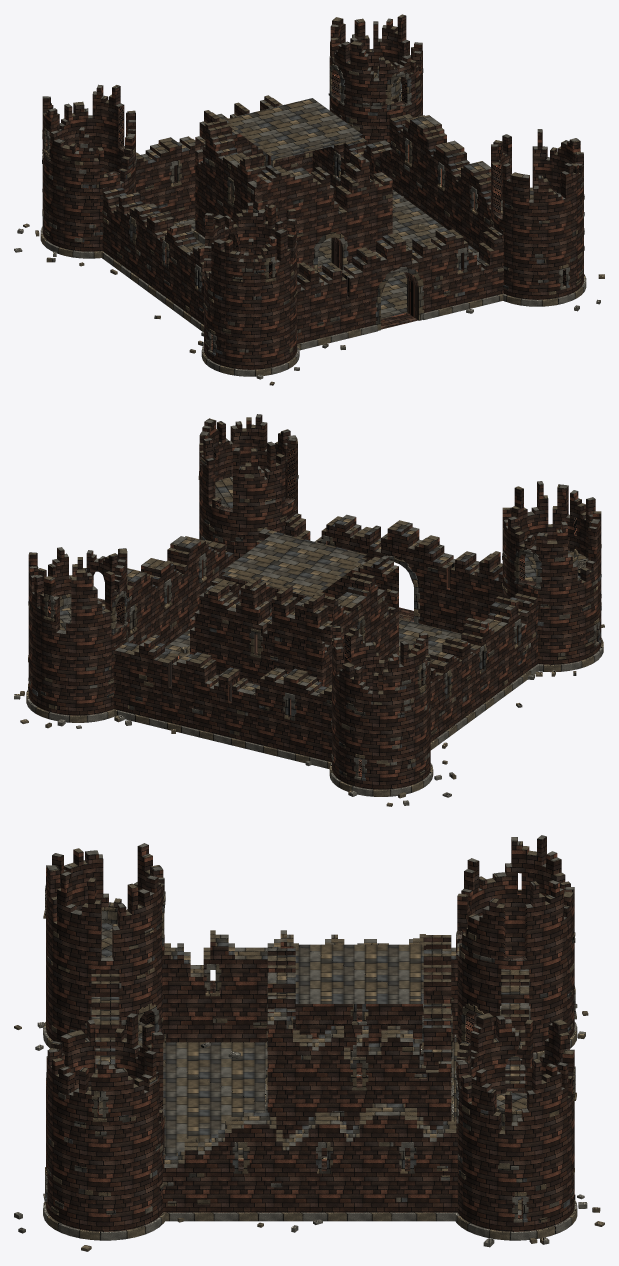
File: dungeon_castle_ruin__v2.glb
3 renders of one model, top to bottom at view 1: azimuth 30°, elevation 25°; view 2: azimuth 150°, elevation 25°; view 3: azimuth 270°, elevation 25°, orthographic. The views are drawn at different scales.
Parts seen in each view (by area): view 1: Procedural_Level_Castle; view 2: Procedural_Level_Castle; view 3: Procedural_Level_Castle.
Boxes of the visible parts, x1,y1,x2,y2 form: Procedural_Level_Castle: (14,14,604,385); Procedural_Level_Castle: (14,414,604,806); Procedural_Level_Castle: (14,835,604,1251).
Bounding box in the file's own units: 33.08 × 10.66 × 31.91.
Materials: 2 (2 with a texture image).
